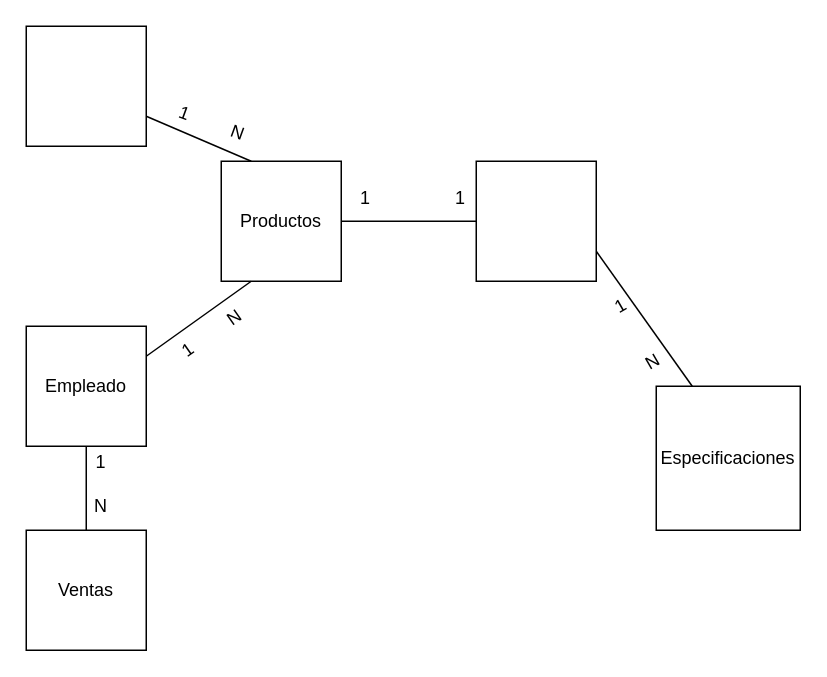
The diagram is 827 pixels wide and 677 high, and some of its shapes have lost their labels. The shapes that lost their labels are listed below. From the top down, each one's centre as x and y in pixels, then its label:
At point 85,85: "Cliente".
At point 535,220: "Tipo_producto".
